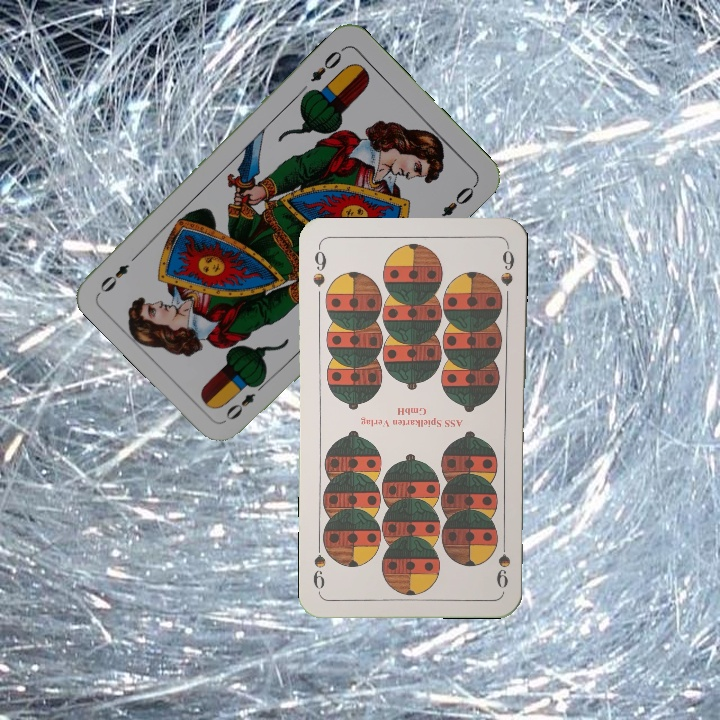EO: (221, 377, 269, 423), (306, 43, 347, 85)
S9: (492, 533, 512, 592), (309, 242, 329, 289)
